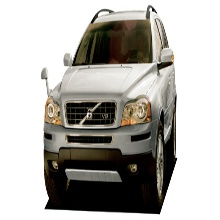no damage: (40, 6, 177, 208)
